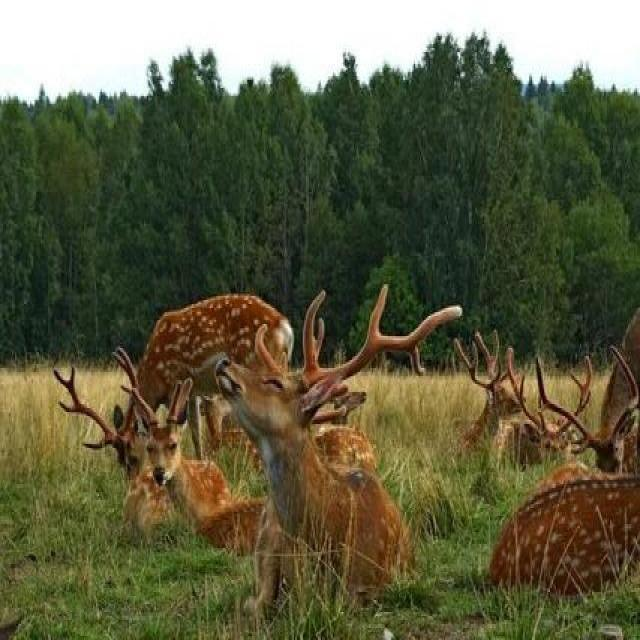deer: (197, 309, 472, 640), (101, 389, 306, 587)
